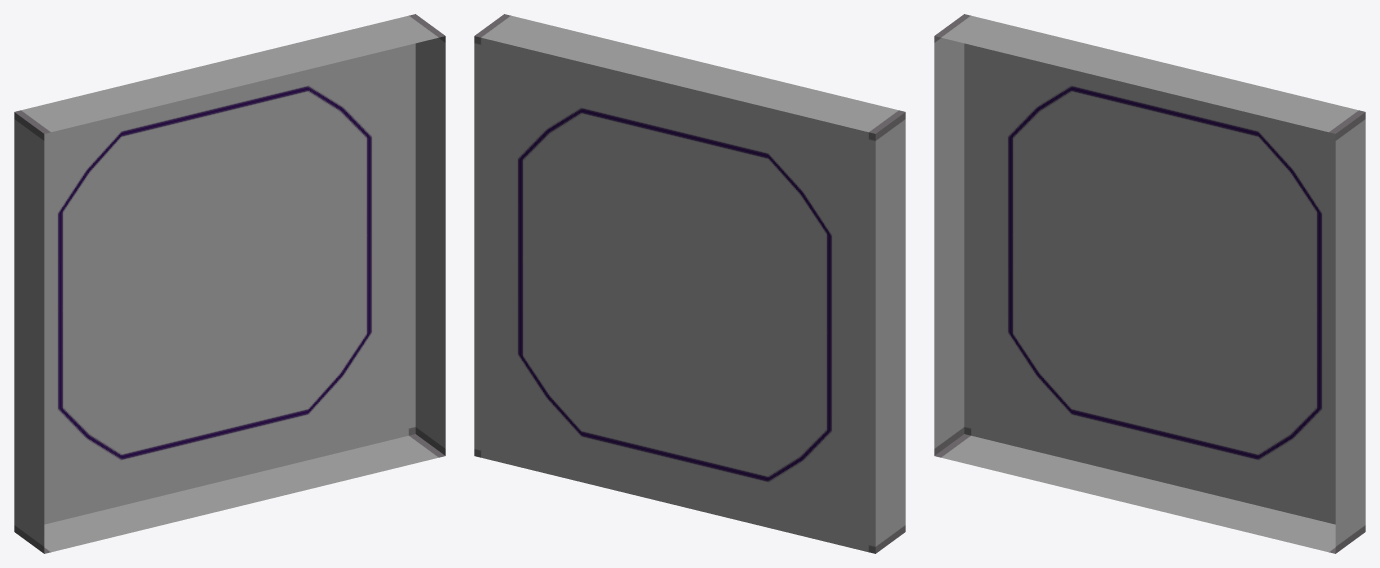
The model's file is KF_SM_SmallPlane4.fbx.
3 renders of one model, left to right at view 1: azimuth 30°, elevation 25°; view 2: azimuth 150°, elevation 25°; view 3: azimuth 330°, elevation 25°, orthographic.
Parts seen in each view (by area): view 1: KF_SM_SmallPlane4; view 2: KF_SM_SmallPlane4; view 3: KF_SM_SmallPlane4.
Boxes of the visible parts, x1,y1,x2,y2 form: KF_SM_SmallPlane4: [14, 14, 445, 553]; KF_SM_SmallPlane4: [474, 14, 905, 553]; KF_SM_SmallPlane4: [934, 14, 1365, 553].
Bounding box in the file's own units: 2495 × 324 × 2494.
